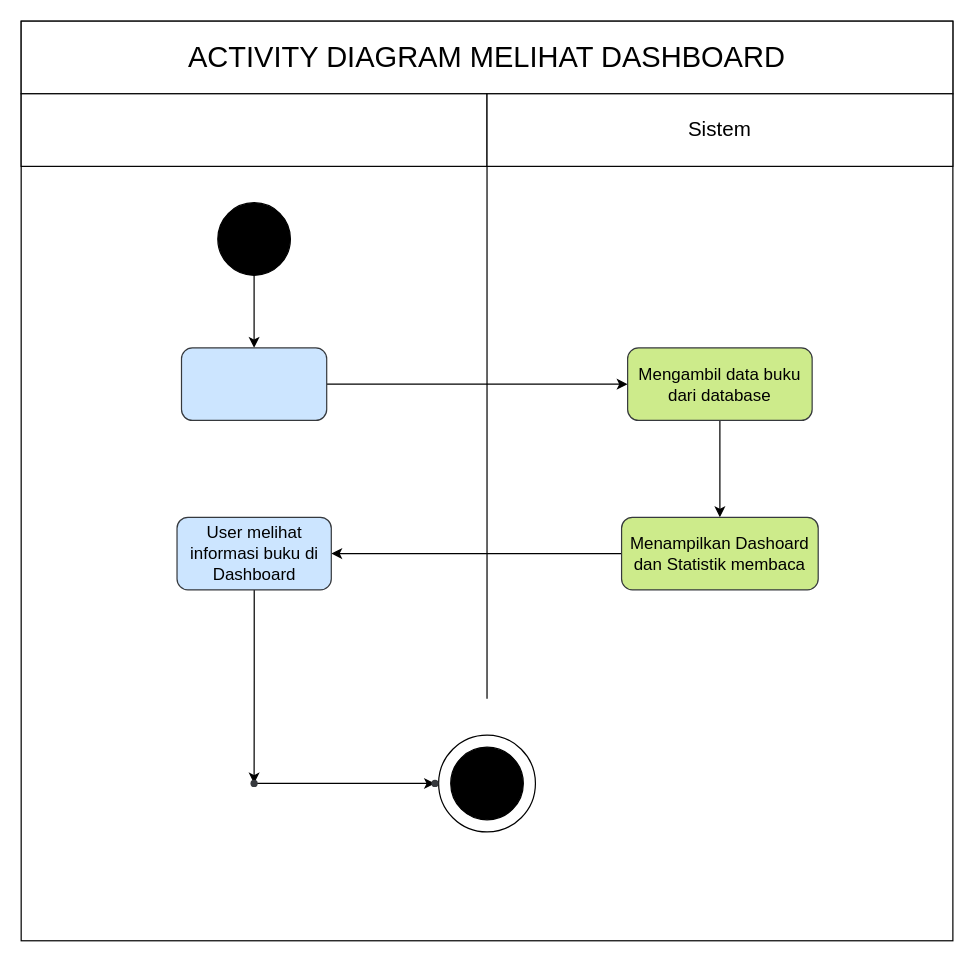
The diagram is 974 pixels wide and 962 high, and some of its shapes have lost their labels. Here are the shapes that lost their labels. From the top down, the centre of each, then its label:
[253,129]: User
[253,383]: Membuka Dashboard
